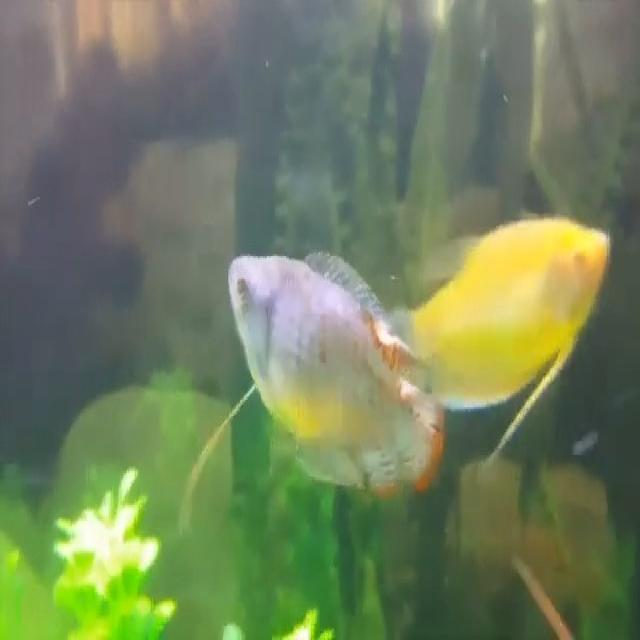fish: (227, 248, 447, 506), (423, 212, 615, 405)
